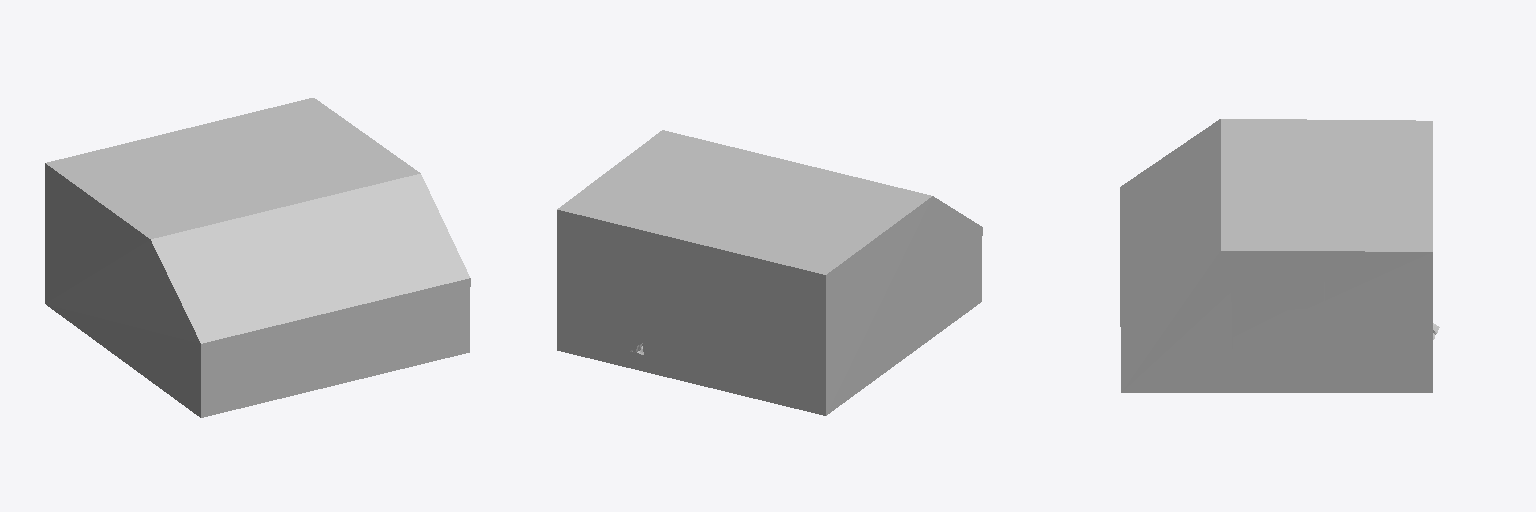
The model's file is proxy.obj.
The picture shows the model from 3 angles: view 1: azimuth 30°, elevation 25°; view 2: azimuth 150°, elevation 25°; view 3: azimuth 270°, elevation 25°; orthographic projection.
Visible parts, largest first — view 1: room1; view 2: room1; view 3: room1.
Part boxes in pixels (x1,y1,x2,y2): room1: (45,98,470,417); room1: (557,130,982,415); room1: (1120,119,1432,392).
Bounding box in the file's own units: 165 × 83.37 × 169.